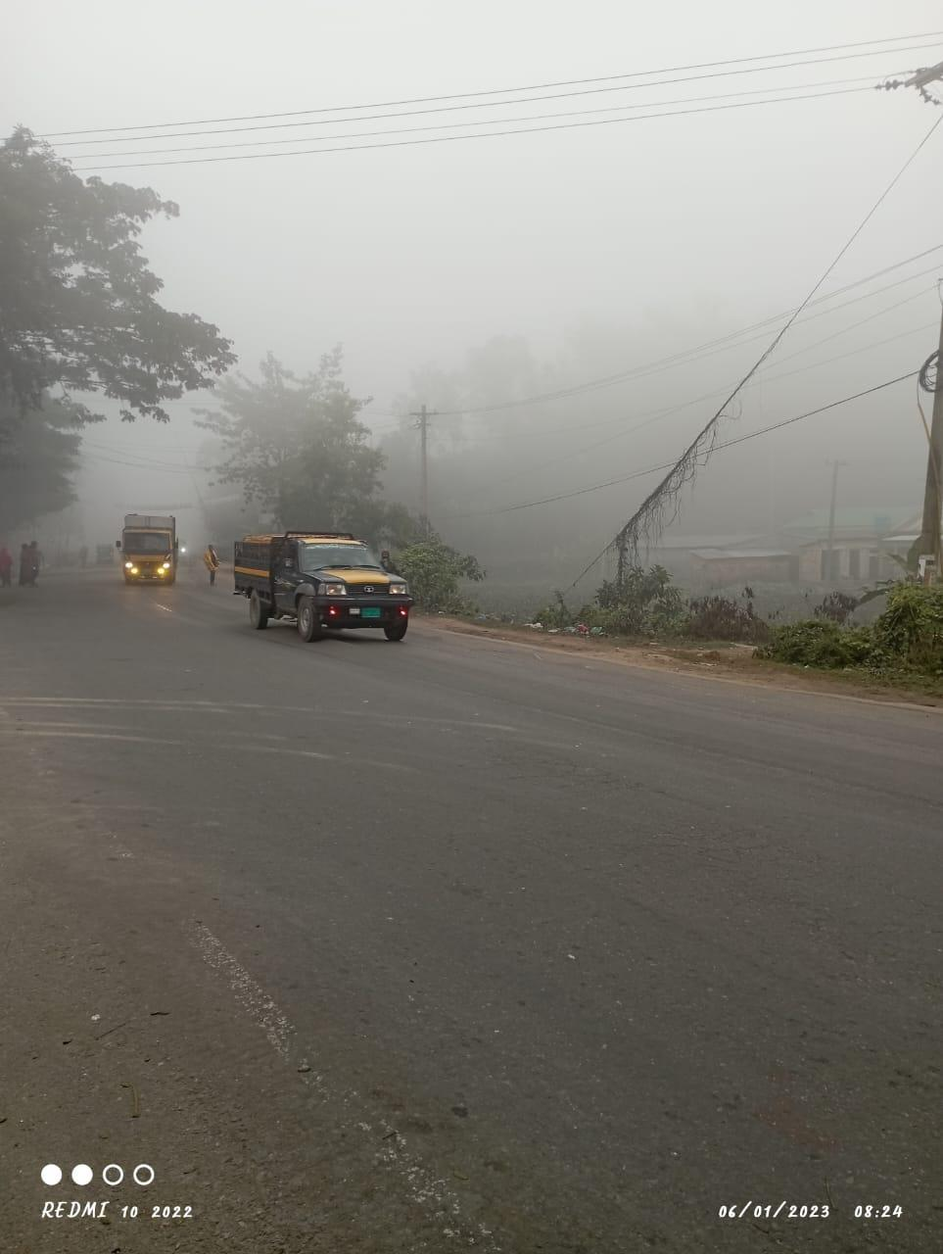Truck: (224, 524, 417, 646), (112, 505, 185, 595)
